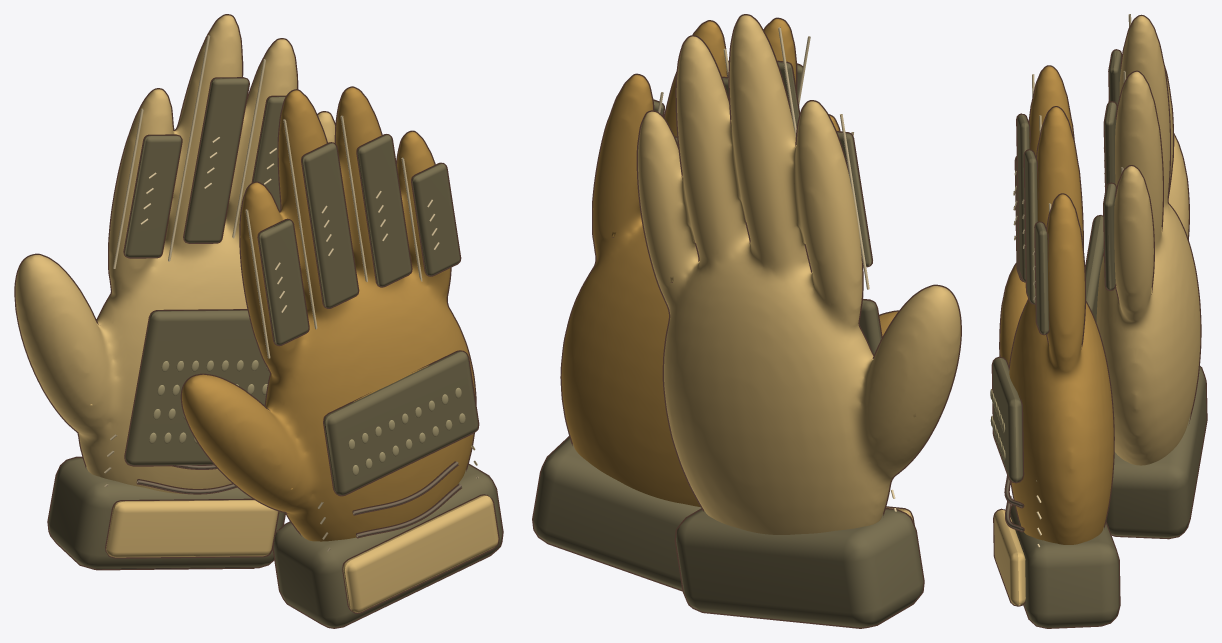
File: prop_10028.glb
3 views of the same model, side by side, from view 1: azimuth 30°, elevation 25°; view 2: azimuth 150°, elevation 25°; view 3: azimuth 270°, elevation 25° (orthographic). The views are drawn at different scales.
Parts seen in each view (by area): view 1: Surface_pad.002, Surface_cloth.002, Surface_clothlight.003, Surface_clothlight.004, Surface_ink.005, Surface_thread.002, Surface_padlight.002, Surface_edge.004; view 2: Surface_clothlight.003, Surface_pad.002, Surface_cloth.002, Surface_ink.005, Surface_thread.002; view 3: Surface_clothlight.003, Surface_cloth.002, Surface_pad.002, Surface_ink.005, Surface_clothlight.004, Surface_thread.002, Surface_padlight.002.
Part boxes in pixels (<box>): Surface_pad.002: <box>48,78,502,627</box>; Surface_cloth.002: <box>182,87,475,541</box>; Surface_clothlight.003: <box>15,15,334,494</box>; Surface_clothlight.004: <box>106,495,498,612</box>; Surface_ink.005: <box>14,14,503,628</box>; Surface_thread.002: <box>104,35,478,551</box>; Surface_padlight.002: <box>149,360,465,475</box>; Surface_edge.004: <box>137,461,461,537</box>; Surface_clothlight.003: <box>638,15,960,534</box>; Surface_pad.002: <box>533,62,923,627</box>; Surface_cloth.002: <box>561,19,897,506</box>; Surface_ink.005: <box>532,14,961,628</box>; Surface_thread.002: <box>657,27,896,511</box>; Surface_clothlight.003: <box>1096,16,1200,465</box>; Surface_cloth.002: <box>1000,66,1113,544</box>; Surface_pad.002: <box>992,50,1206,627</box>; Surface_ink.005: <box>991,14,1207,628</box>; Surface_clothlight.004: <box>994,510,1025,605</box>; Surface_thread.002: <box>1013,14,1131,547</box>; Surface_padlight.002: <box>990,389,1005,460</box>.
Bounding box in the file's own units: 0.6034 × 0.7884 × 0.2858.
